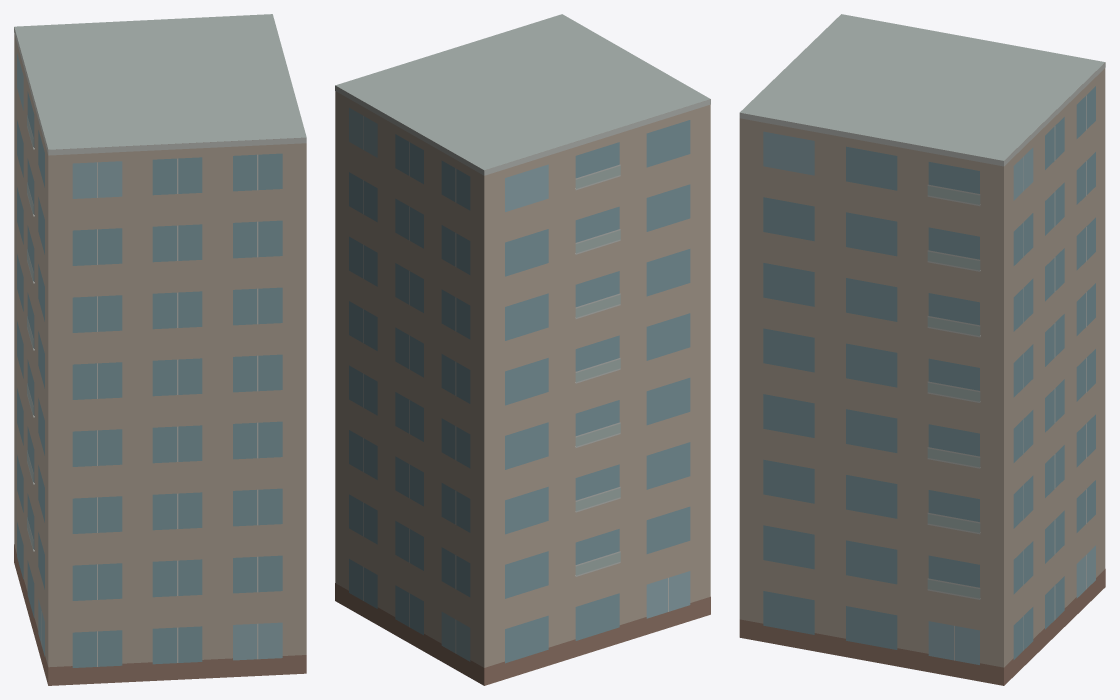
Rendered from survey-upis-32670336.glb.
3 renders of one model, left to right at view 1: azimuth 30°, elevation 25°; view 2: azimuth 150°, elevation 25°; view 3: azimuth 270°, elevation 25°, orthographic. The views are drawn at different scales.
Visible parts, largest first — view 1: survey-upis-32670336.tmp; view 2: survey-upis-32670336.tmp; view 3: survey-upis-32670336.tmp.
Boxes of the visible parts, <box> form: survey-upis-32670336.tmp: <box>14,14,306,685</box>; survey-upis-32670336.tmp: <box>335,14,710,685</box>; survey-upis-32670336.tmp: <box>739,14,1105,685</box>.
Bounding box in the file's own units: 13.75 × 22.9 × 14.47.
